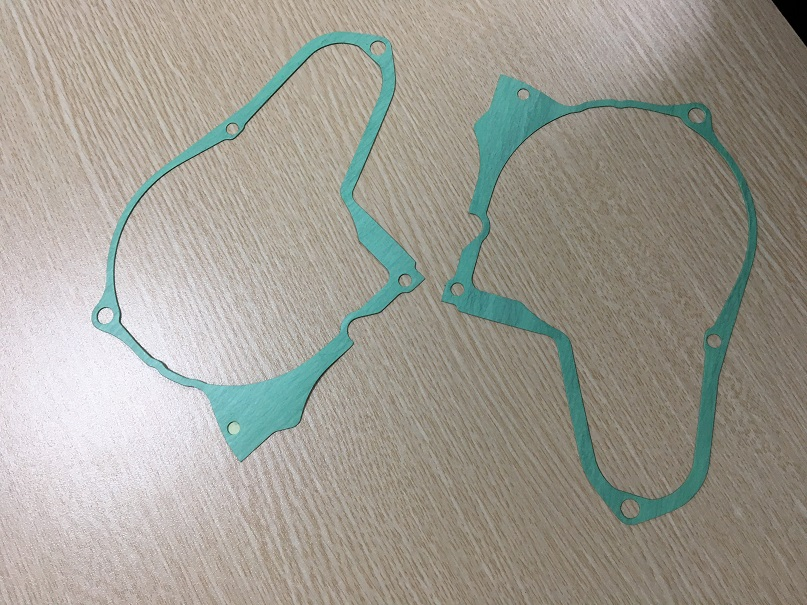type1: (434, 62, 764, 533), (83, 29, 430, 467)
